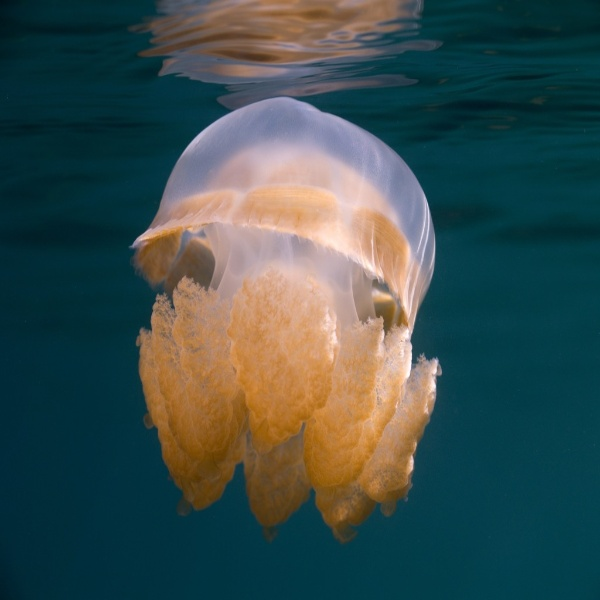Jellyfish: (124, 94, 444, 545)
